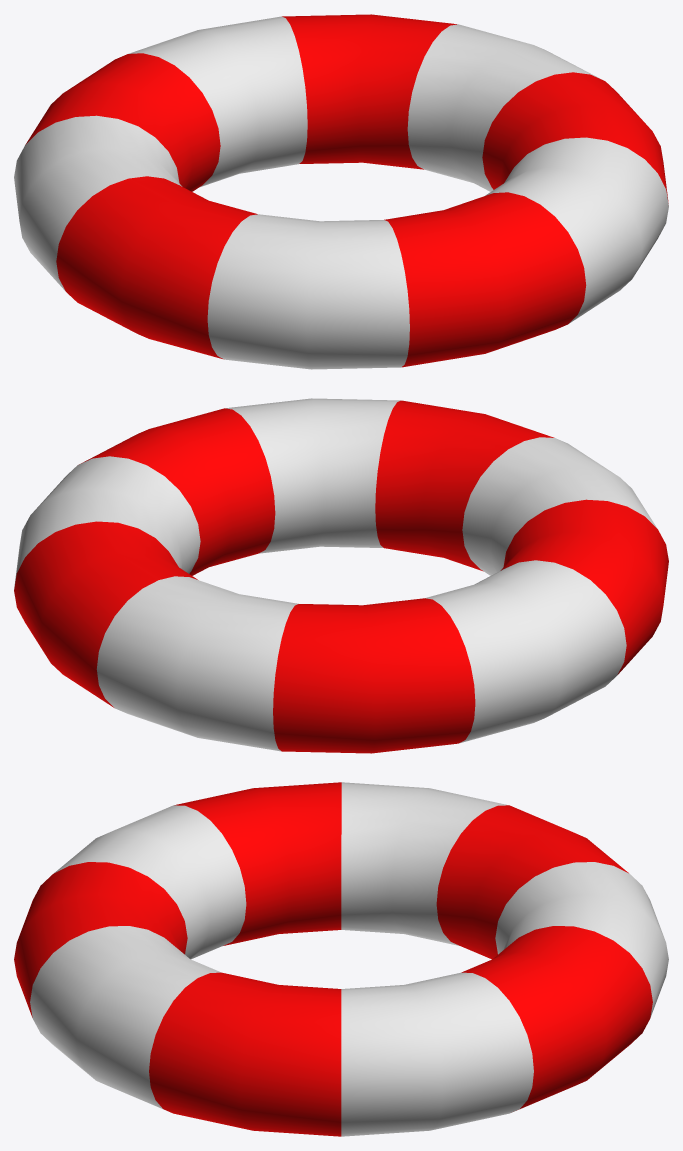
Rendered from Bouée_R.fbx.
3 views of the same model, one above another, from view 1: azimuth 30°, elevation 25°; view 2: azimuth 150°, elevation 25°; view 3: azimuth 270°, elevation 25° (orthographic).
Visible parts, largest first — view 1: Bouée_R; view 2: Bouée_R; view 3: Bouée_R.
Boxes of the visible parts, bbox=[...] form: Bouée_R: bbox=[14, 14, 668, 369]; Bouée_R: bbox=[14, 398, 668, 753]; Bouée_R: bbox=[14, 782, 668, 1136].
Bounding box in the file's own units: 166 × 36.36 × 166.
